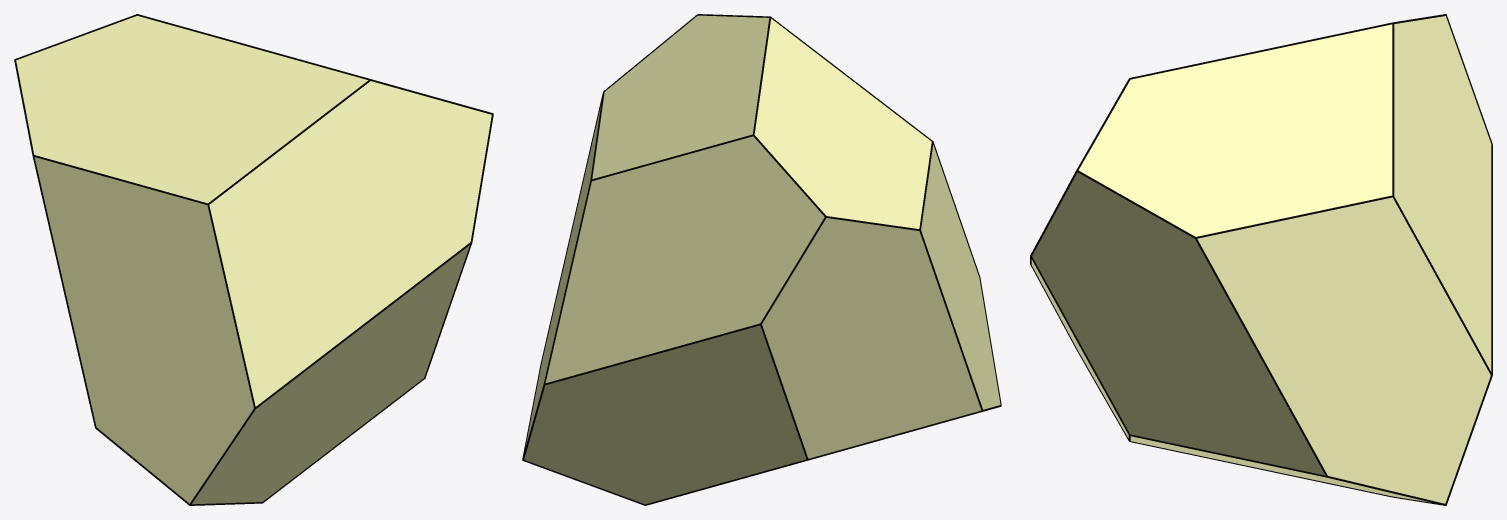
The model's file is quiz_120.dae.
3 renders of one model, left to right at view 1: azimuth 30°, elevation 25°; view 2: azimuth 150°, elevation 25°; view 3: azimuth 270°, elevation 25°, orthographic. The views are drawn at different scales.
Visible parts, largest first — view 1: visgeom_0, geometry_edges0_0_quiz_120.off; view 2: visgeom_0, geometry_edges0_0_quiz_120.off; view 3: visgeom_0, geometry_edges0_0_quiz_120.off.
Boxes of the visible parts, <box> form: visgeom_0: <box>16,15,491,504</box>; geometry_edges0_0_quiz_120.off: <box>14,14,493,505</box>; visgeom_0: <box>524,15,1000,504</box>; geometry_edges0_0_quiz_120.off: <box>522,14,1001,505</box>; visgeom_0: <box>1031,16,1491,503</box>; geometry_edges0_0_quiz_120.off: <box>1030,14,1492,505</box>.
Bounding box in the file's own units: 2.3 × 2.3 × 2.3.
